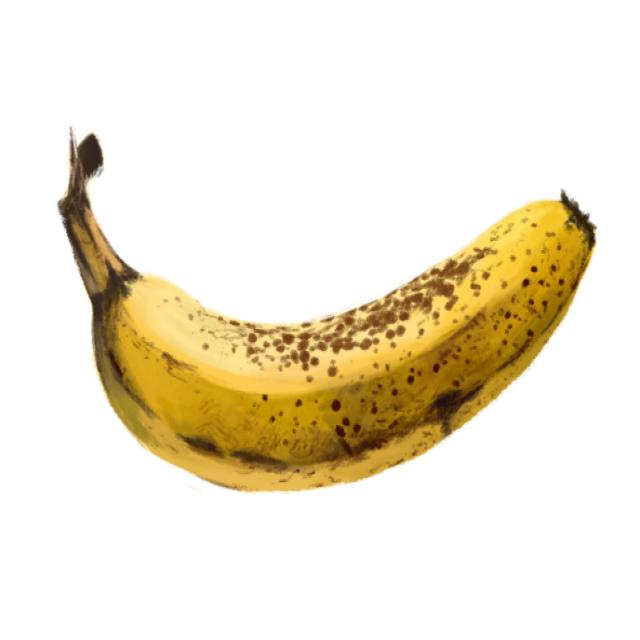Banana: (57, 127, 609, 496)
